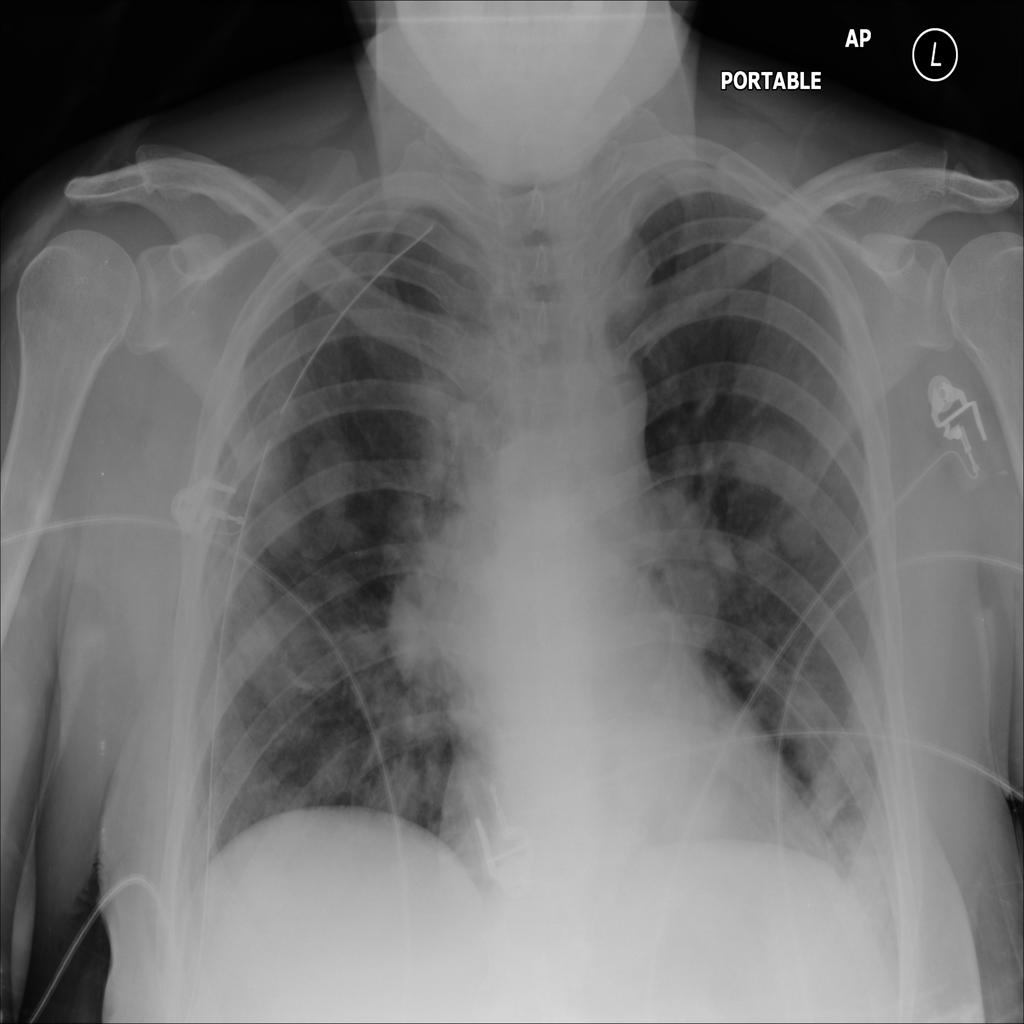nodule: (627, 524, 741, 667), (218, 579, 333, 712), (721, 403, 825, 525), (293, 430, 369, 520), (768, 494, 838, 576), (250, 490, 313, 570)
